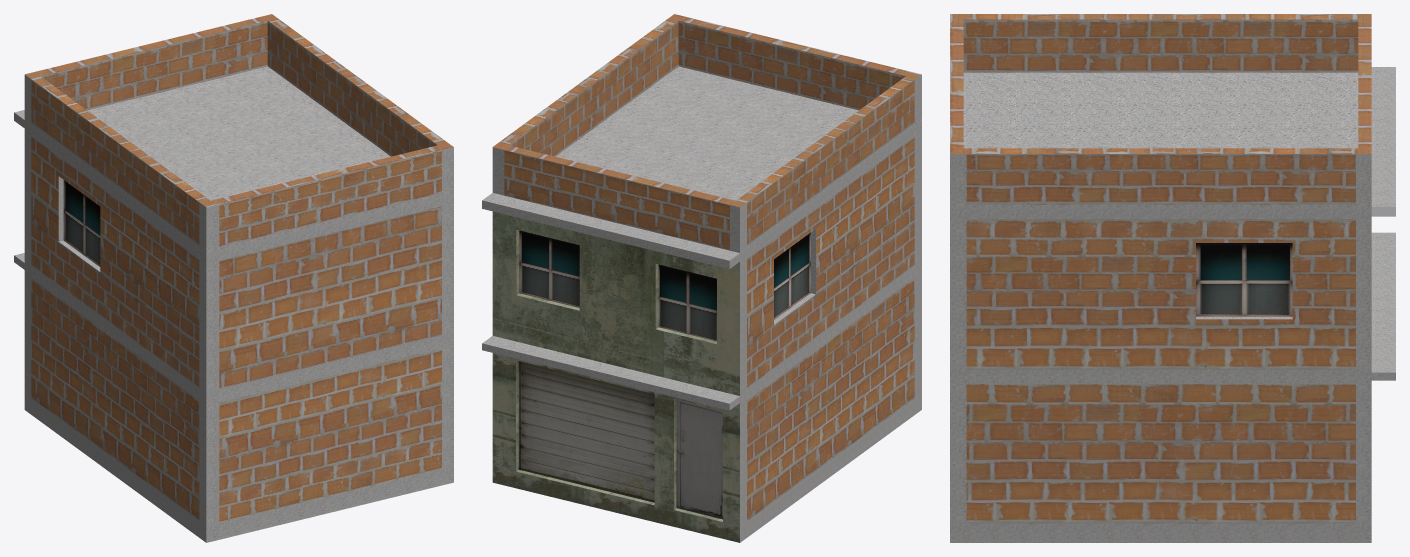
File: favela_brasileira.glb
The picture shows the model from 3 angles, left to right: view 1: azimuth 30°, elevation 25°; view 2: azimuth 150°, elevation 25°; view 3: azimuth 270°, elevation 25°; orthographic projection. The views are drawn at different scales.
Visible parts, largest first — view 1: Cube; view 2: Cube; view 3: Cube.
Boxes of the visible parts, <box> form: Cube: <box>14,14,453,542</box>; Cube: <box>482,14,921,542</box>; Cube: <box>950,14,1395,542</box>.
Bounding box in the file's own units: 11.52 × 14.93 × 15.5.
Materials: 7 (6 with a texture image).
